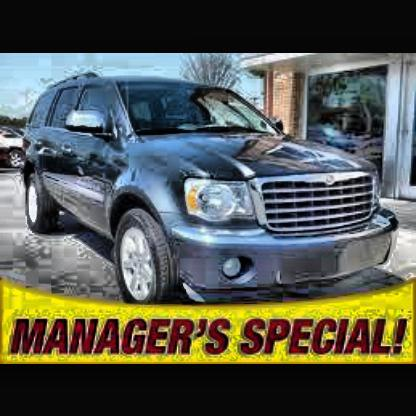Chrysler Aspen SUV 2009: (23, 72, 403, 306)
